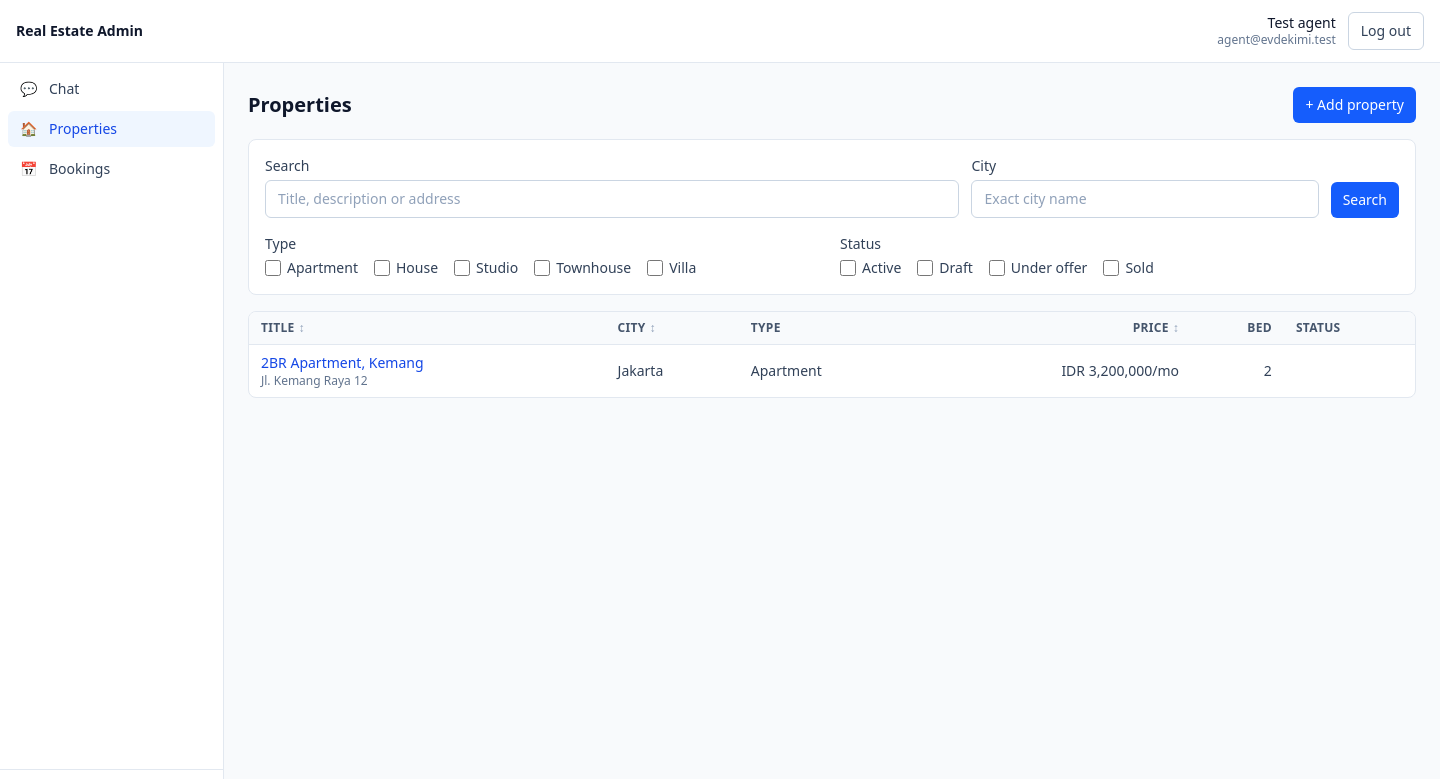
Test case: PropertyDetailPage › fetches the full record even when the list row is already cached
This screenshot has width=1440, height=779.
Click the link "2BR Apartment, Kemang". click: (342, 362)
box: left=261, top=353, right=424, bottom=372
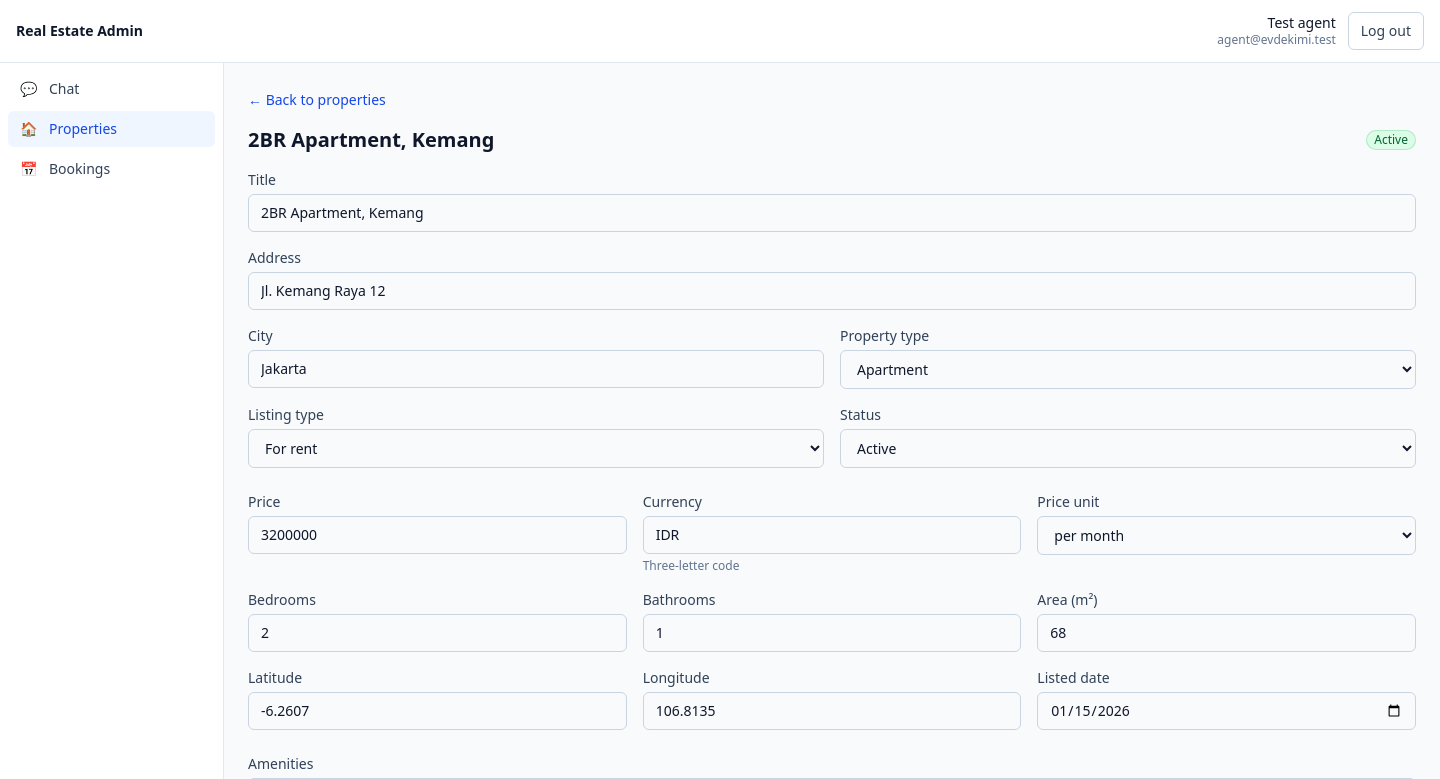
Result: the number field labelled "Latitude" holds "-6.2607" at left=248, top=692, right=627, bottom=730
